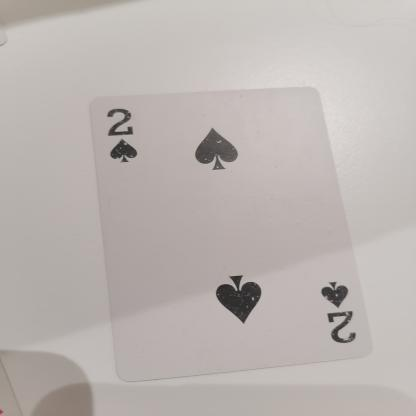2S: (312, 276, 361, 364), (101, 95, 150, 182)
